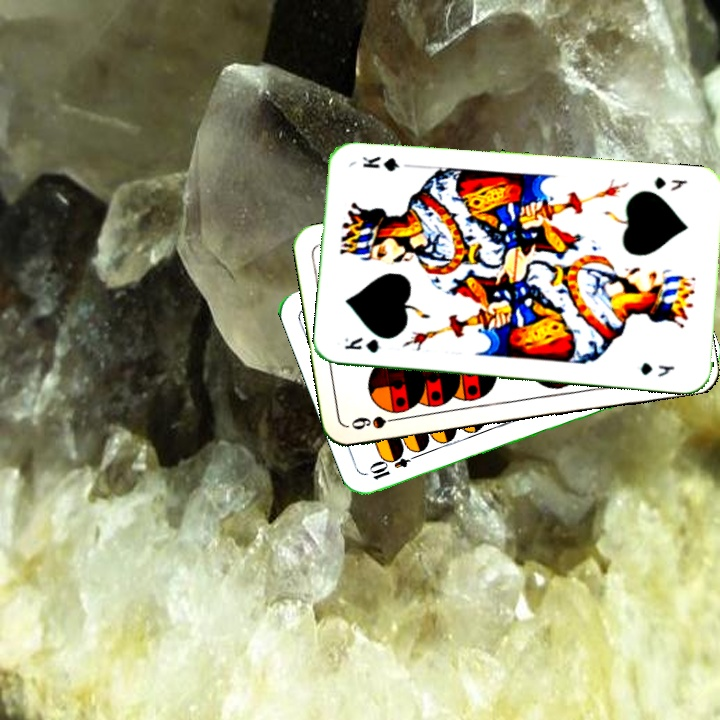E10: (366, 448, 423, 483)
GK: (340, 333, 382, 355), (650, 173, 690, 193)
S9: (347, 412, 406, 433)
